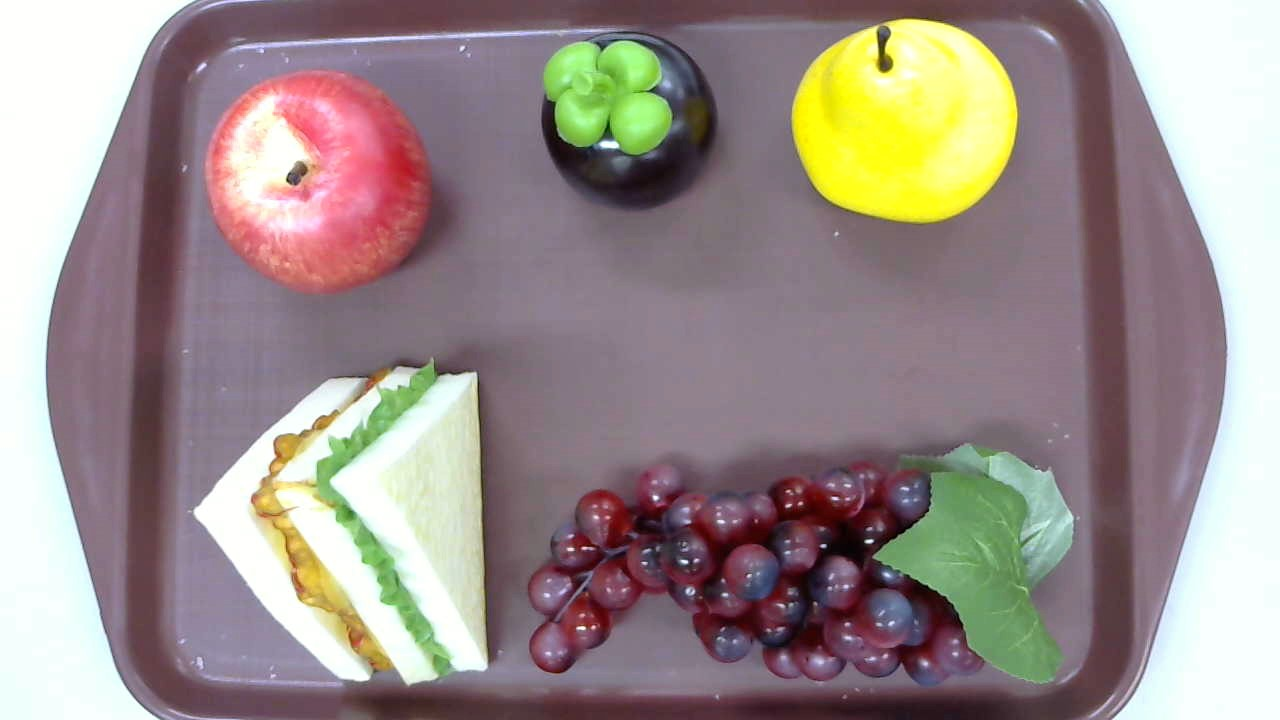grape: (528, 441, 1074, 688)
mangosteen: (541, 30, 718, 213)
red apple: (203, 69, 433, 296)
sandwich: (193, 357, 489, 685)
yellow pear: (791, 18, 1019, 224)
